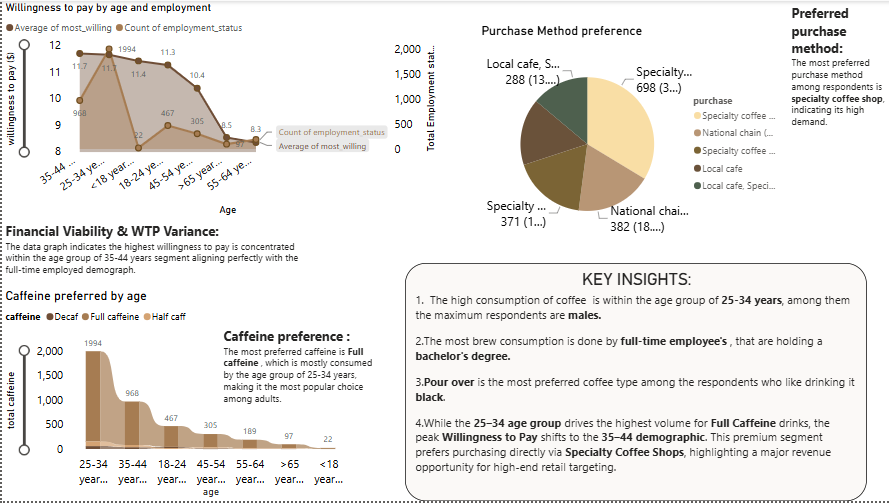

This screenshot's page, from the dashboard's own definition file:
{"tool":"powerbi","page":{"name":"Page 3","canvas":[1280,720],"ordinal":2},"visuals":[{"type":"lineChart","title":"Willingness to pay by age and employment ","fields":{"Category":["Coffee_Data.age"],"Y":["Avg(Coffee_Data.most_willing)"],"Y2":["CountNonNull(Coffee_Data.employment_status)"]},"box":[0,0,629.2,313.9],"z":0},{"type":"textbox","box":[0,313.9,445.8,86.1],"z":1000},{"type":"pieChart","title":"Purchase Method preference","fields":{"Category":["Coffee_Data.purchase"],"Y":["CountNonNull(Coffee_Data.purchase)"]},"box":[686.1,31.9,445.8,327.8],"z":2000},{"type":"textbox","box":[1132.3,0,147.7,195.4],"z":3000},{"type":"ribbonChart","title":"Caffeine preferred by age","fields":{"Category":["Coffee_Data.age"],"Y":["CountNonNull(Coffee_Data.caffeine)"],"Series":["Coffee_Data.caffeine"]},"box":[0,413.8,509.2,306.2],"z":4000},{"type":"textbox","box":[313.8,464.6,241.5,123.1],"z":5000},{"type":"textbox","title":"KEY INSIGHTS:","box":[580,376.9,664.6,343.1],"z":6000}]}

Visuals, with their boxes in screenshot pixels (x1, y1, x2, y2), scaled from the page's 1280x720 canvas onto the 889x503 screenshot:
"Willingness to pay by age and employment " lineChart: select_region(0, 0, 437, 219)
textbox: select_region(0, 219, 310, 279)
"Purchase Method preference" pieChart: select_region(477, 22, 786, 251)
textbox: select_region(786, 0, 888, 137)
"Caffeine preferred by age" ribbonChart: select_region(0, 289, 354, 502)
textbox: select_region(218, 325, 386, 411)
"KEY INSIGHTS:" textbox: select_region(403, 263, 864, 502)
